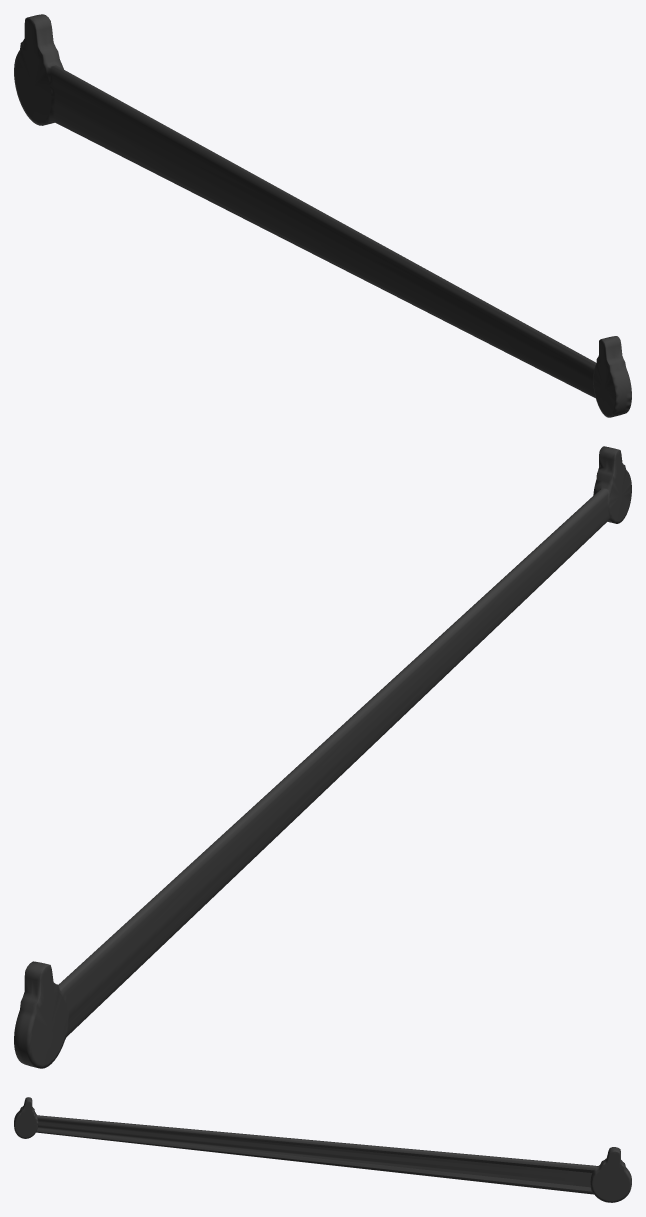
File: bielaIzquierdaExpresoHowarts.obj
3 views of the same model, one above another, from view 1: azimuth 30°, elevation 25°; view 2: azimuth 150°, elevation 25°; view 3: azimuth 270°, elevation 25° (orthographic). The views are drawn at different scales.
Parts seen in each view (by area): view 1: polySurface25_Grey; view 2: polySurface25_Grey; view 3: polySurface25_Grey.
Part boxes in pixels (left/top/right/bottom): polySurface25_Grey: left=14, top=14, right=631, bottom=417; polySurface25_Grey: left=14, top=446, right=631, bottom=1068; polySurface25_Grey: left=14, top=1097, right=631, bottom=1202.
Size of the model in its own units: 0.1158 by 1.34 by 7.36.
